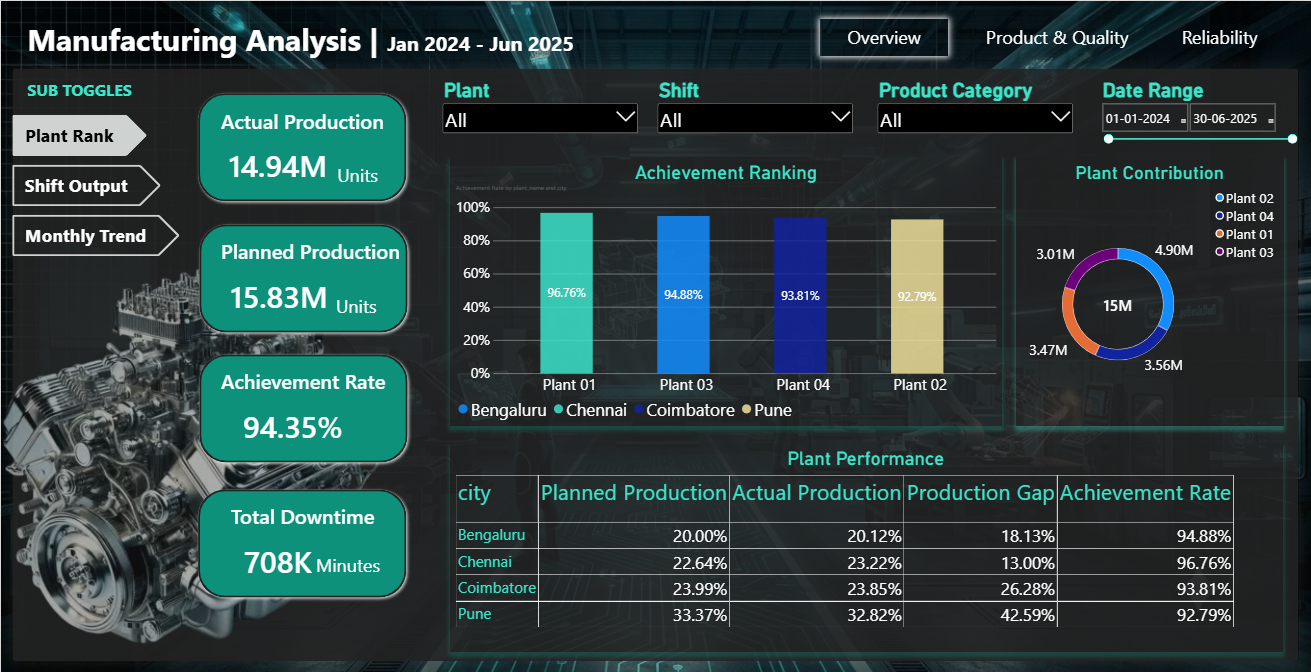

The page's visual inventory and layout, read from the dashboard file:
{"tool":"powerbi","page":{"name":"Overview","canvas":[3500,1800],"ordinal":1},"visuals":[{"type":"textbox","box":[70,46.7,1483.3,133.3],"z":0},{"type":"shape","box":[30,180,3430,1580],"z":1000},{"type":"actionButton","title":"Overview on","box":[2183.3,46.7,343.3,100],"z":3000},{"type":"actionButton","title":"pro & qua off","box":[2553.3,46.7,526.7,100],"z":5000},{"type":"actionButton","title":"reliability off","box":[3080,46.7,340,100],"z":7000},{"type":"textbox","box":[70,206.7,320,96.7],"z":8000},{"type":"actionButton","title":"Plank rank off","box":[30,303.3,360,110],"z":10000},{"type":"actionButton","title":"Shift output off","box":[30,436.7,396.7,110],"z":12000},{"type":"image","box":[0,626.7,1023.3,1173.3],"z":13000},{"type":"actionButton","title":"Monthly trend on","box":[30,570,446.7,110],"z":14000},{"type":"shape","box":[517.3,582,580,313.3],"z":16000},{"type":"textbox","box":[587.3,628.7,510,80],"z":17000},{"type":"cardVisual","fields":{"Data":["production measures.Planned Production"]},"box":[587.3,708.7,310,150],"z":18000},{"type":"textbox","box":[893.3,780,253.3,80],"z":19000},{"type":"shape","box":[517.3,931.3,580,313.3],"z":20000},{"type":"textbox","box":[587.3,978,510,80],"z":21000},{"type":"cardVisual","fields":{"Data":["production measures.Achievement Rate"]},"box":[586.7,1056.7,383.3,150],"z":22000},{"type":"shape","box":[514.7,1288.7,580,313.3],"z":23000},{"type":"textbox","box":[613.3,1336.7,510,80],"z":24000},{"type":"cardVisual","fields":{"Data":["downtime_measures.Total Downtime Minutes"]},"box":[584.7,1415.3,310,150],"z":25000},{"type":"textbox","box":[841.3,1468.7,253.3,80],"z":26000},{"type":"shape","box":[513.3,233.3,580,313.3],"z":27000},{"type":"textbox","box":[586.7,283.3,480,80],"z":28000},{"type":"cardVisual","fields":{"Data":["production measures.Actual Production"]},"box":[563.3,360,350,150],"z":29000},{"type":"textbox","box":[896.7,430,253.3,80],"z":30000},{"type":"slicer","title":"Plant Slicer","fields":{"Values":["plants.plant_name"]},"box":[1173.3,206.7,530,153.3],"z":31000},{"type":"slicer","title":"Shift Slicer","fields":{"Values":["shifts.shift_name"]},"box":[1746.7,206.7,530,153.3],"z":32000},{"type":"slicer","title":"Product Slicer","fields":{"Values":["products.product_category"]},"box":[2333.3,206.7,530,153.3],"z":33000},{"type":"slicer","title":"Date Slicer","fields":{"Values":["production_records.production_date"]},"box":[2930,206.7,530,223.3],"z":34000},{"type":"lineChart","title":"Monthly Production Performance","fields":{"Y":["production measures.Actual Production","production measures.Planned Production"],"Category":["production_records.Month Date.Variation.Date Hierarchy.Year","production_records.Month Date.Variation.Date Hierarchy.Month"]},"box":[1150,470,2270,1190],"z":41000}]}

Visuals, with their boxes in screenshot pixels (x1, y1, x2, y2), scaled from the page's 3500x1800 canvas onto the 1311x672 screenshot:
textbox: box(26, 17, 582, 67)
shape: box(11, 67, 1296, 657)
"Overview on" actionButton: box(818, 17, 946, 55)
"pro & qua off" actionButton: box(956, 17, 1154, 55)
"reliability off" actionButton: box(1154, 17, 1281, 55)
textbox: box(26, 77, 146, 113)
"Plank rank off" actionButton: box(11, 113, 146, 154)
"Shift output off" actionButton: box(11, 163, 160, 204)
image: box(0, 234, 383, 671)
"Monthly trend on" actionButton: box(11, 213, 179, 254)
shape: box(194, 217, 411, 334)
textbox: box(220, 235, 411, 265)
cardVisual - production measures.Planned Production: box(220, 265, 336, 321)
textbox: box(335, 291, 429, 321)
shape: box(194, 348, 411, 465)
textbox: box(220, 365, 411, 395)
cardVisual - production measures.Achievement Rate: box(220, 395, 363, 451)
shape: box(193, 481, 410, 598)
textbox: box(230, 499, 421, 529)
cardVisual - downtime_measures.Total Downtime Minutes: box(219, 528, 335, 584)
textbox: box(315, 548, 410, 578)
shape: box(192, 87, 410, 204)
textbox: box(220, 106, 400, 136)
cardVisual - production measures.Actual Production: box(211, 134, 342, 190)
textbox: box(336, 161, 431, 190)
"Plant Slicer" slicer: box(439, 77, 638, 134)
"Shift Slicer" slicer: box(654, 77, 853, 134)
"Product Slicer" slicer: box(874, 77, 1073, 134)
"Date Slicer" slicer: box(1097, 77, 1296, 161)
"Monthly Production Performance" lineChart: box(431, 175, 1281, 620)
